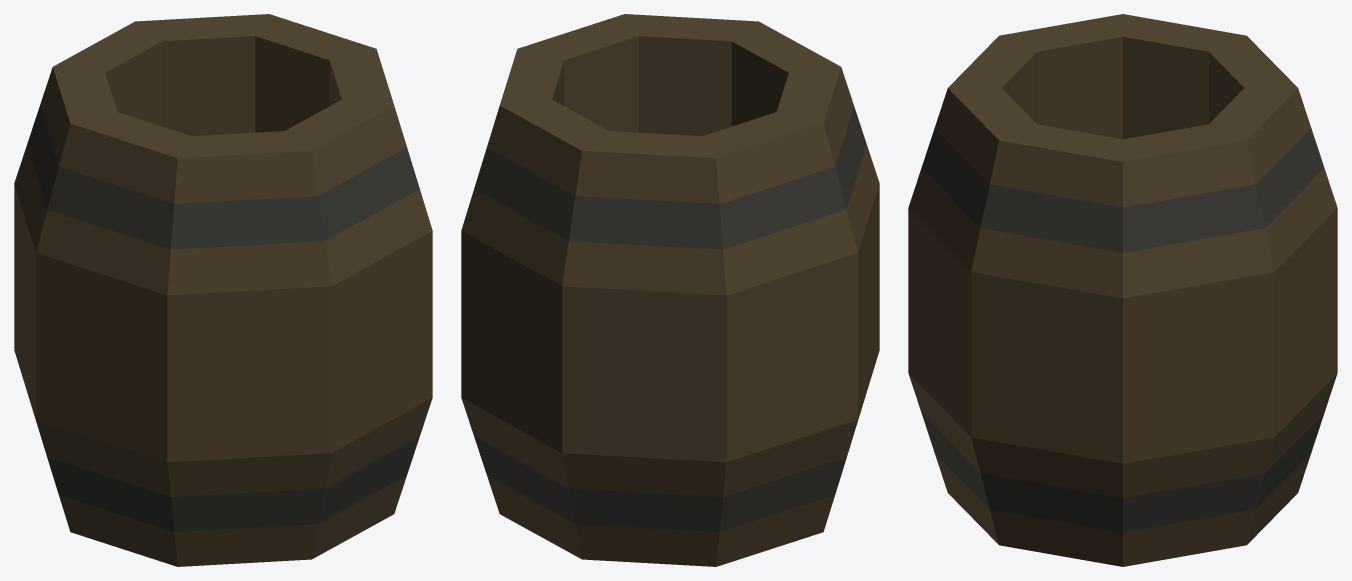
Rendered from barrel1.fbx.
3 renders of one model, left to right at view 1: azimuth 30°, elevation 25°; view 2: azimuth 150°, elevation 25°; view 3: azimuth 270°, elevation 25°, orthographic.
Visible parts, largest first — view 1: Cylinder; view 2: Cylinder; view 3: Cylinder.
Boxes of the visible parts, x1=… form: Cylinder: x1=14, y1=14, x2=432, y2=566; Cylinder: x1=461, y1=14, x2=879, y2=566; Cylinder: x1=908, y1=14, x2=1337, y2=566.
Bounding box in the file's own units: 224 × 233 × 224.
